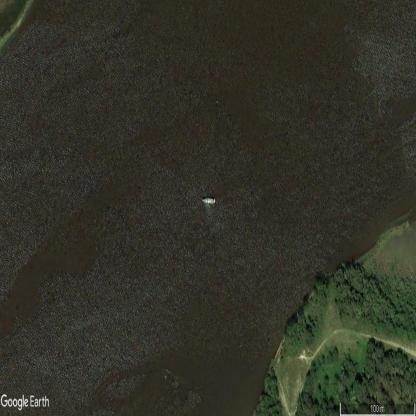ship: (202, 198, 215, 204)
